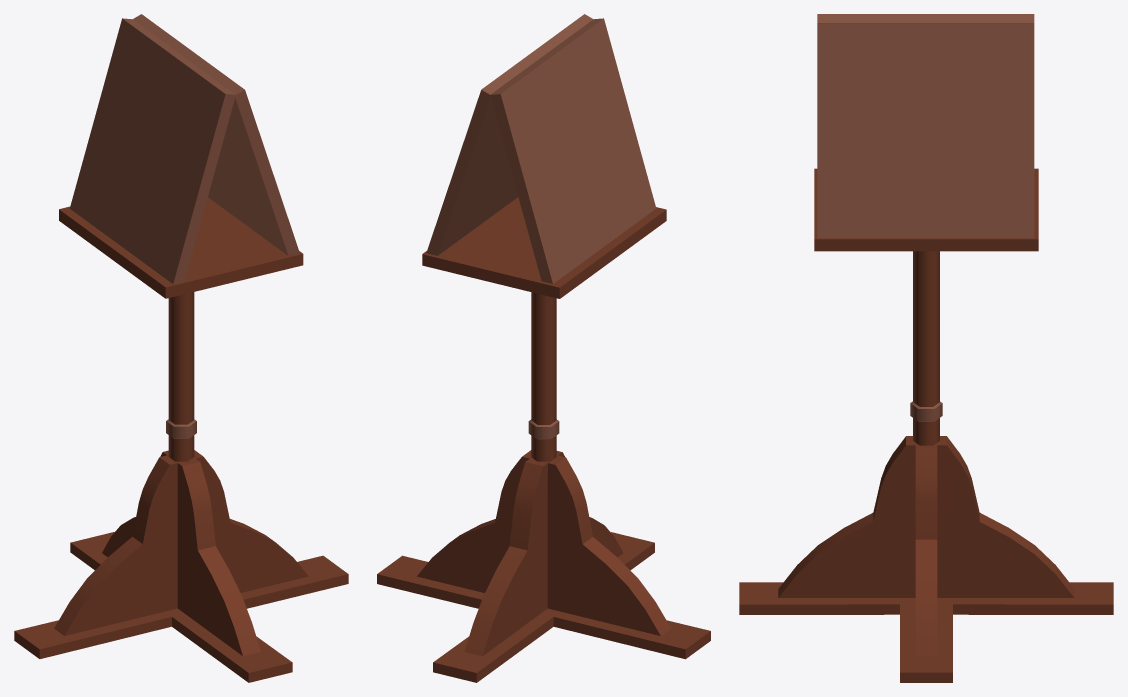
File: SM_Book_Stand.fbx
3 views of the same model, side by side, from view 1: azimuth 30°, elevation 25°; view 2: azimuth 150°, elevation 25°; view 3: azimuth 270°, elevation 25° (orthographic). The views are drawn at different scales.
Visible parts, largest first — view 1: Cube.024; view 2: Cube.024; view 3: Cube.024.
Part boxes in pixels (box(x1,y1,x2,y2)): Cube.024: box(14, 14, 348, 682); Cube.024: box(377, 14, 710, 682); Cube.024: box(739, 14, 1113, 682).
Bounding box in the file's own units: 107 × 184 × 107.
